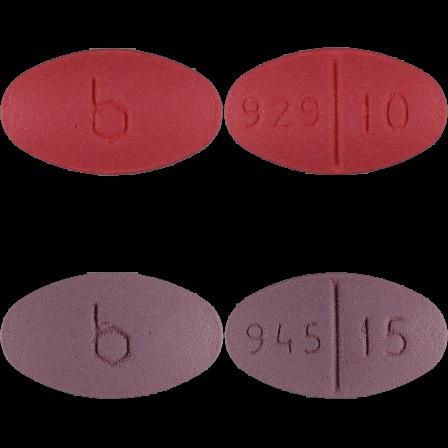51285-368: (0, 0, 224, 224)
